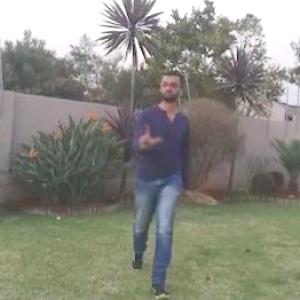land_hand: (134, 118, 168, 159)
